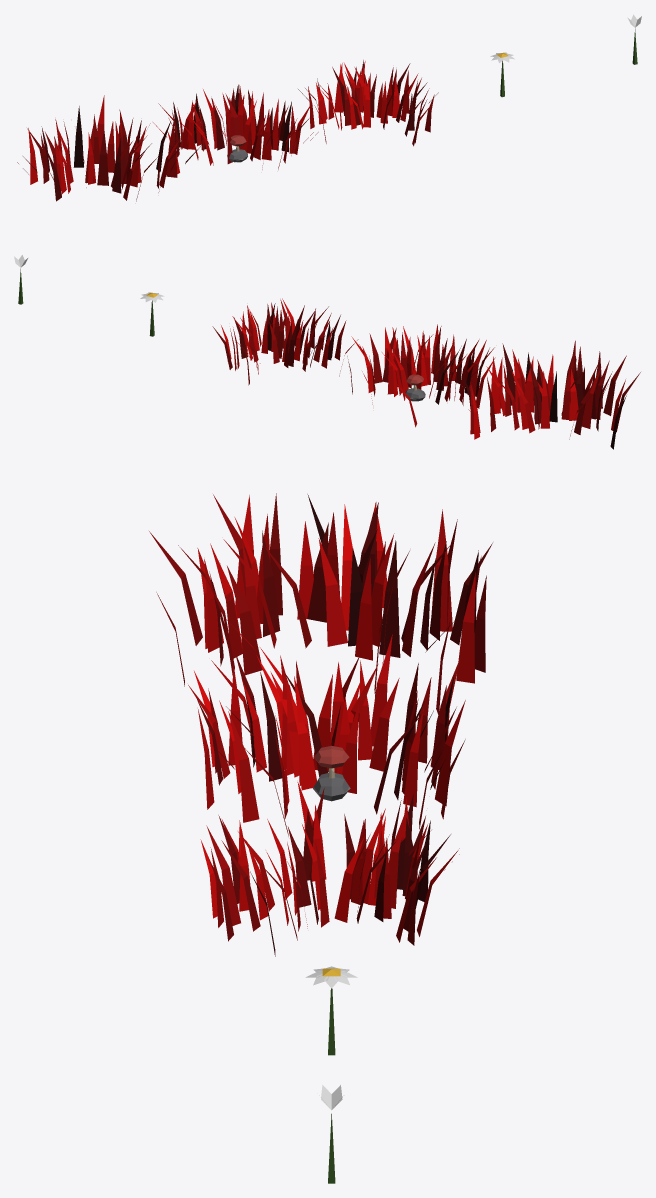
The model's file is grass.glb.
3 renders of one model, top to bottom at view 1: azimuth 30°, elevation 25°; view 2: azimuth 150°, elevation 25°; view 3: azimuth 270°, elevation 25°, orthographic. The views are drawn at different scales.
Visible parts, largest first — view 1: grass_clump_b, grass_clump_a, grass_clump_c; view 2: grass_clump_b, grass_clump_a, grass_clump_c; view 3: grass_clump_b, grass_clump_a, grass_clump_c, flower_daisy.
Boxes of the visible parts, bbox=[...] form: grass_clump_b: bbox=[17, 95, 202, 201]; grass_clump_a: bbox=[153, 84, 318, 173]; grass_clump_c: bbox=[298, 60, 438, 146]; grass_clump_b: bbox=[461, 340, 640, 449]; grass_clump_a: bbox=[347, 324, 495, 427]; grass_clump_c: bbox=[212, 298, 358, 385]; grass_clump_b: bbox=[149, 493, 492, 714]; grass_clump_a: bbox=[188, 634, 465, 836]; grass_clump_c: bbox=[200, 782, 459, 956]; flower_daisy: bbox=[305, 966, 357, 1055].
Size of the model in its own units: 4.66 by 0.4053 by 1.2.
